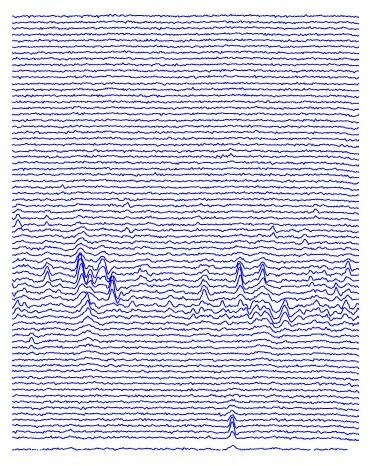defect: (233, 256, 293, 329), (74, 248, 123, 318), (310, 276, 358, 328), (192, 270, 211, 311), (11, 286, 31, 322), (228, 408, 241, 449), (26, 330, 39, 362), (39, 259, 54, 285), (13, 208, 25, 238), (343, 255, 357, 279), (268, 216, 280, 243), (161, 293, 175, 316)
